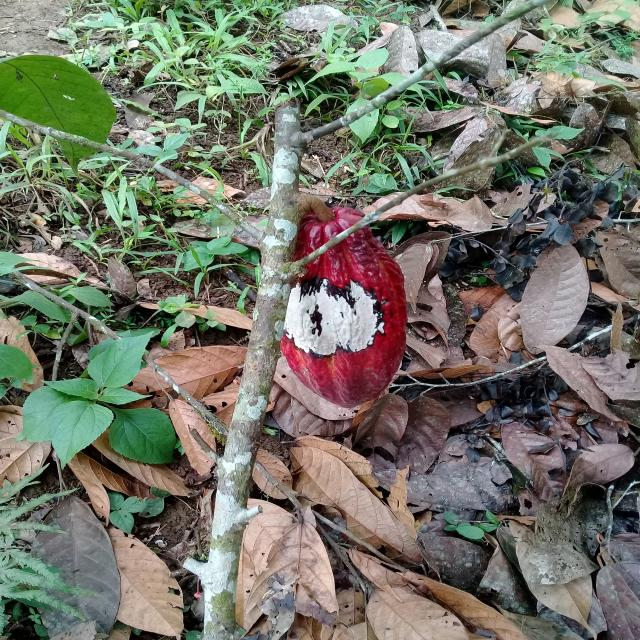Monilia: (273, 207, 410, 408)
